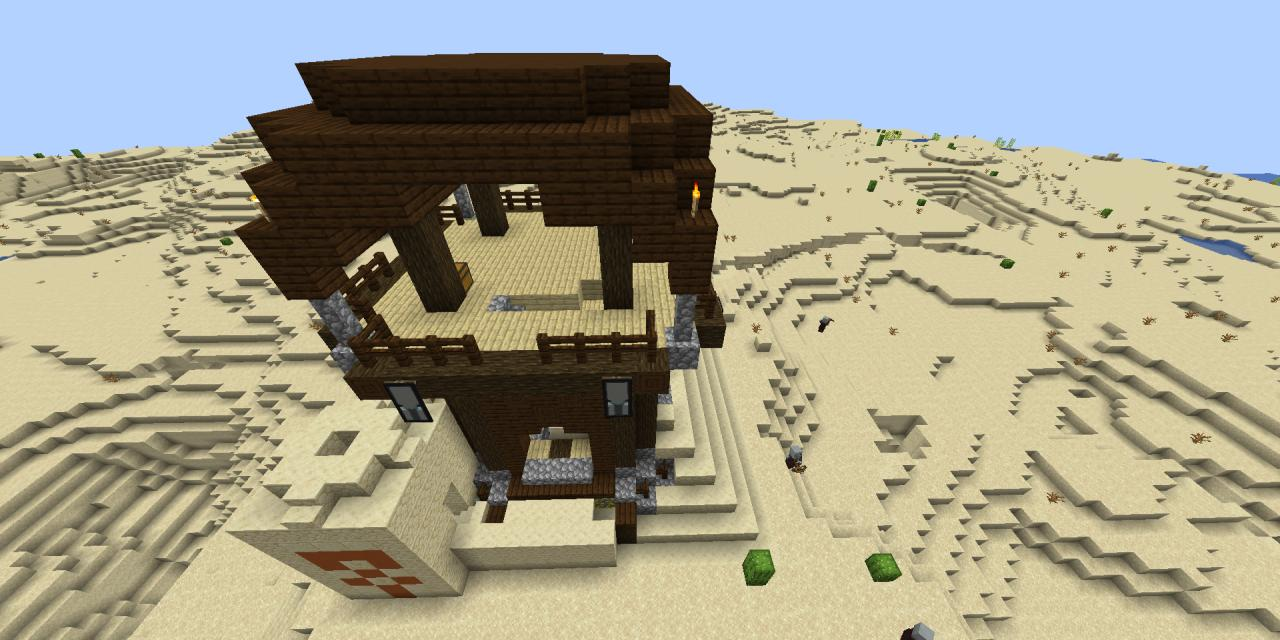desert temple: (218, 402, 761, 625)
pillager outpost: (227, 33, 757, 545)
